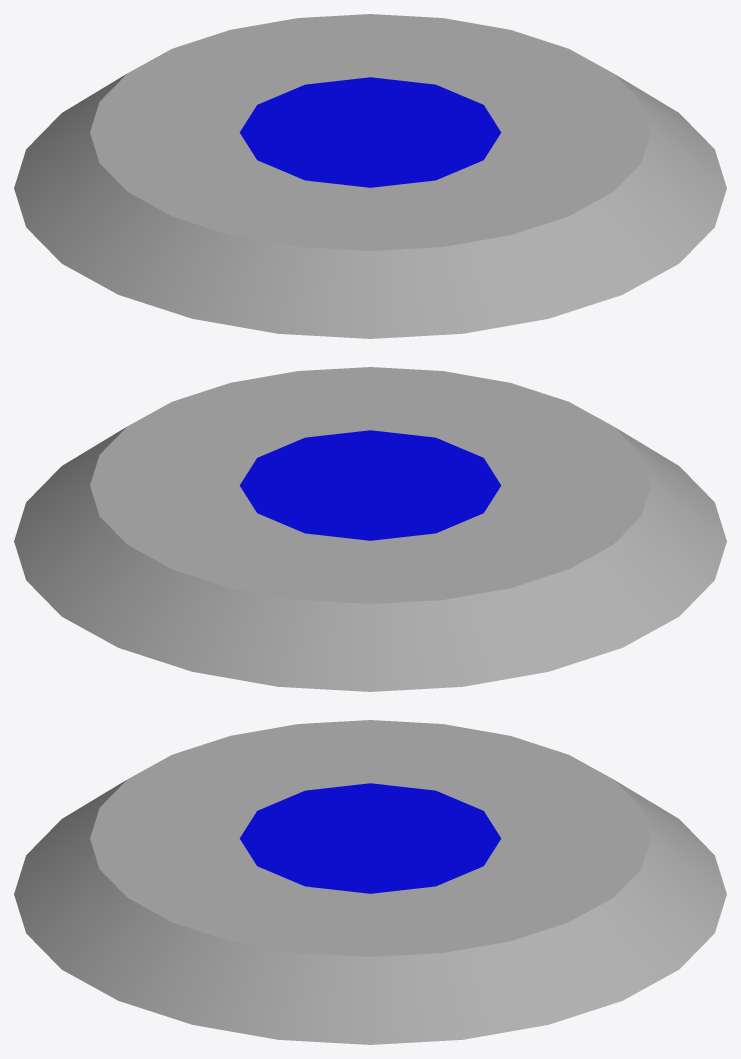
The model's file is Spawn.fbx.
3 renders of one model, top to bottom at view 1: azimuth 30°, elevation 25°; view 2: azimuth 150°, elevation 25°; view 3: azimuth 270°, elevation 25°, orthographic.
Visible parts, largest first — view 1: pDisc1; view 2: pDisc1; view 3: pDisc1.
Part boxes in pixels (bbox=[...]): pDisc1: bbox=[14, 14, 726, 338]; pDisc1: bbox=[14, 367, 726, 691]; pDisc1: bbox=[14, 720, 726, 1044].
Bounding box in the file's own units: 19.96 × 1.72 × 19.96.
